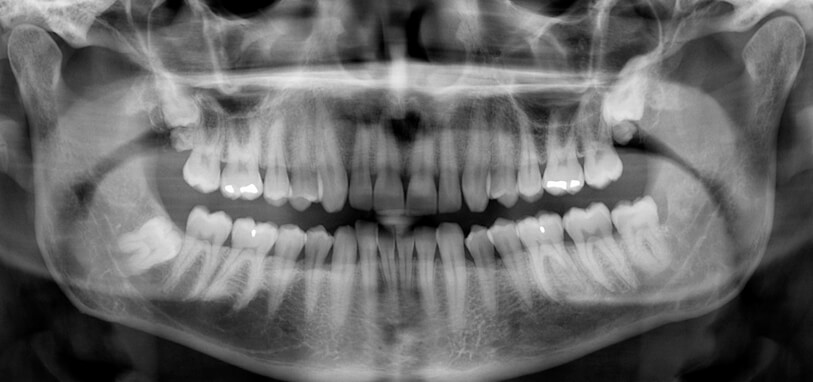canine: (314, 124, 351, 216), (460, 122, 493, 213), (433, 220, 469, 288), (333, 224, 359, 305)
incisor: (373, 130, 407, 219), (348, 116, 379, 210), (406, 132, 439, 218), (435, 127, 466, 215), (352, 223, 380, 307), (414, 223, 439, 296), (377, 222, 397, 308), (397, 221, 416, 296)
molar: (559, 199, 646, 293), (200, 214, 282, 311), (517, 210, 604, 300), (176, 194, 236, 292), (610, 192, 680, 271), (542, 102, 588, 198), (220, 112, 268, 202), (183, 105, 224, 193), (580, 117, 626, 191)
premolar: (286, 115, 325, 212), (487, 218, 529, 300), (306, 223, 342, 315), (275, 218, 307, 321), (512, 108, 545, 205), (487, 117, 521, 209), (263, 121, 294, 208), (464, 227, 498, 302)
